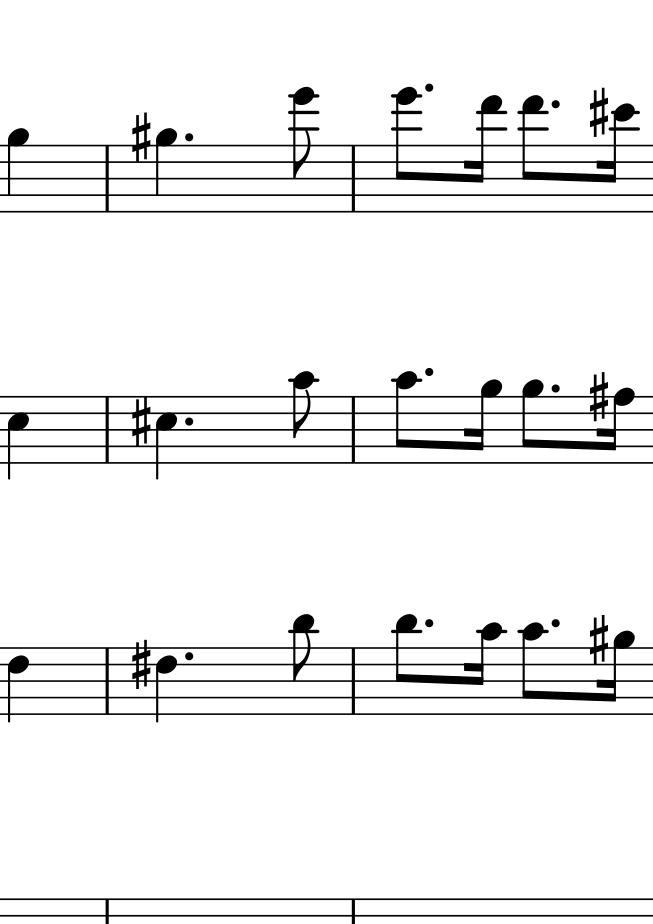16_10: (466, 621, 504, 715)
16_12: (599, 102, 643, 215)
16_13: (467, 93, 505, 215)
16_8: (601, 388, 636, 464)
16_9: (468, 378, 504, 466), (602, 628, 636, 719)
4_5: (154, 394, 178, 483), (5, 394, 29, 482)
4_6: (6, 645, 29, 722), (155, 645, 177, 724)
4_9: (6, 126, 29, 215), (154, 126, 177, 213)
8_10: (291, 371, 317, 467), (520, 622, 545, 717), (394, 370, 417, 466)
8_11: (291, 611, 317, 719), (394, 611, 420, 717)
8_13: (519, 93, 551, 215)
8_14: (390, 84, 425, 215), (286, 84, 321, 215)
8_9: (520, 379, 544, 465)
Sharp: (129, 395, 152, 449), (129, 639, 151, 692), (587, 613, 609, 666), (588, 86, 609, 140), (588, 370, 609, 423), (130, 111, 151, 163)
Single_barline: (345, 397, 362, 461), (345, 649, 361, 713), (100, 648, 115, 713), (100, 146, 115, 210), (100, 397, 115, 461), (346, 149, 361, 210)
dot: (422, 80, 435, 96), (422, 365, 436, 379), (181, 649, 195, 663), (422, 616, 435, 631), (549, 97, 562, 111), (182, 415, 195, 428), (549, 617, 562, 630), (549, 381, 561, 395), (182, 131, 194, 144)
